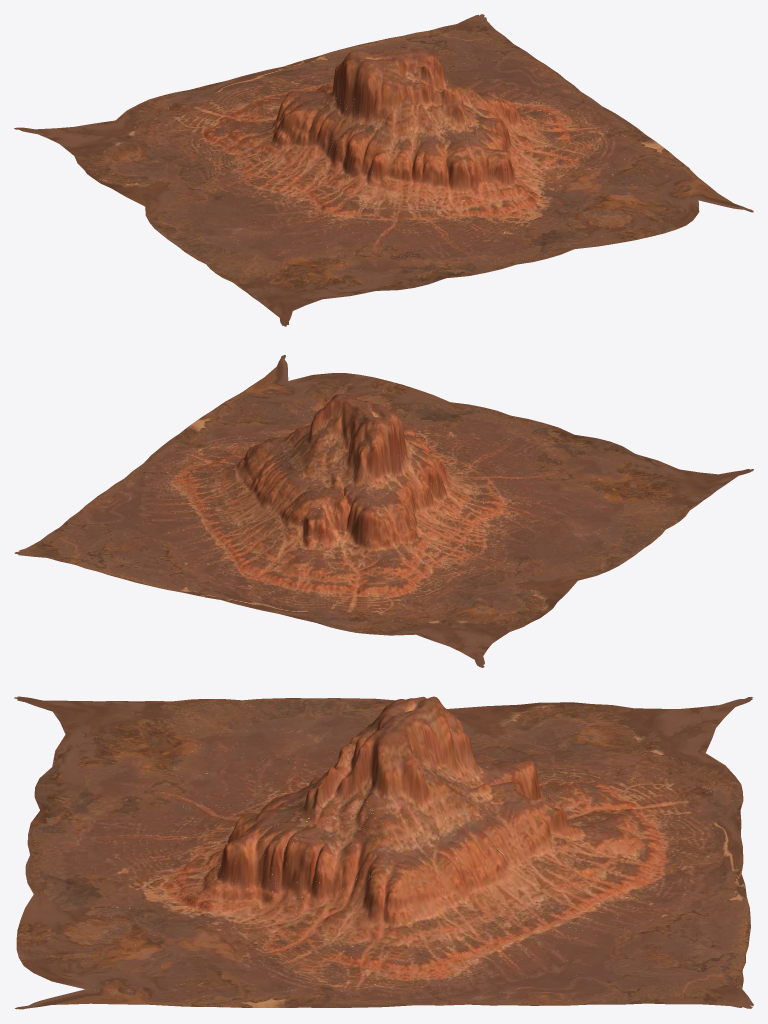
Rendered from canyon_red_a.glb.
3 renders of one model, top to bottom at view 1: azimuth 30°, elevation 25°; view 2: azimuth 150°, elevation 25°; view 3: azimuth 270°, elevation 25°, orthographic. The views are drawn at different scales.
Visible parts, largest first — view 1: Plane_Material.001_0 (×8); view 2: Plane_Material.001_0 (×8); view 3: Plane_Material.001_0 (×8).
Boxes of the visible parts, box(x1,y1,x2,y2) form: Plane_Material.001_0 (×8): box(14, 14, 753, 326); Plane_Material.001_0 (×8): box(14, 355, 753, 667); Plane_Material.001_0 (×8): box(14, 696, 753, 1009).
Size of the model in its own units: 991 by 218 by 991.
1 material, 1 textured.
